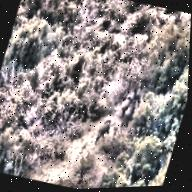boar: (120, 96, 150, 140), (89, 115, 116, 159), (115, 84, 138, 122), (134, 78, 145, 96)
